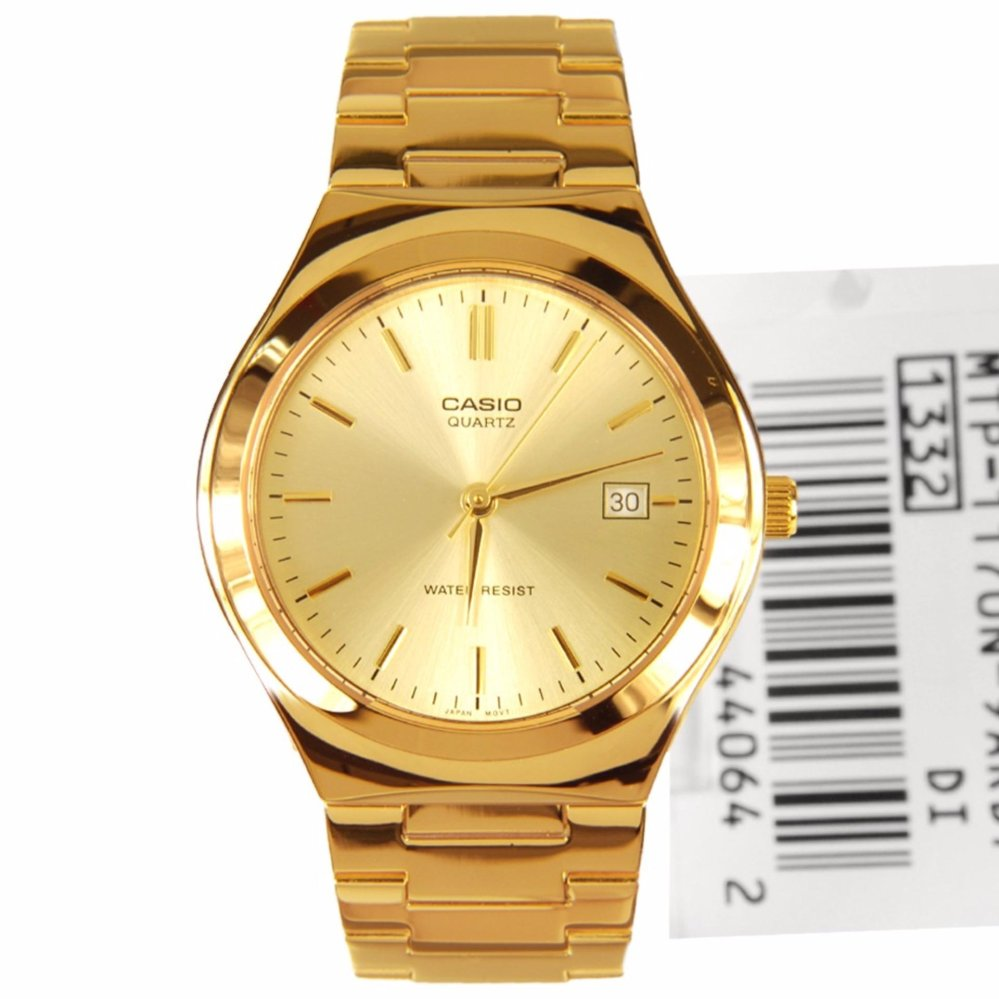clock: (194, 206, 767, 787)
